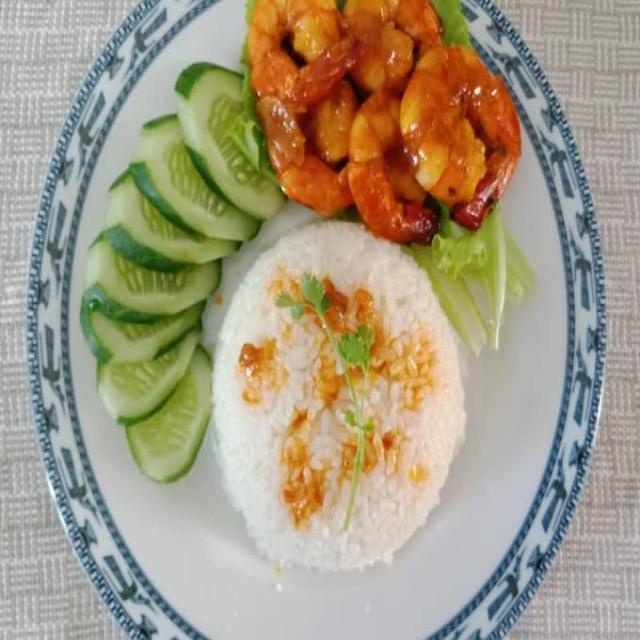com: (214, 222, 465, 568)
dua leo: (81, 64, 283, 479)
rau: (401, 203, 535, 353), (236, 37, 284, 206), (432, 0, 471, 48), (246, 0, 254, 25)
tom: (248, 0, 519, 242)
